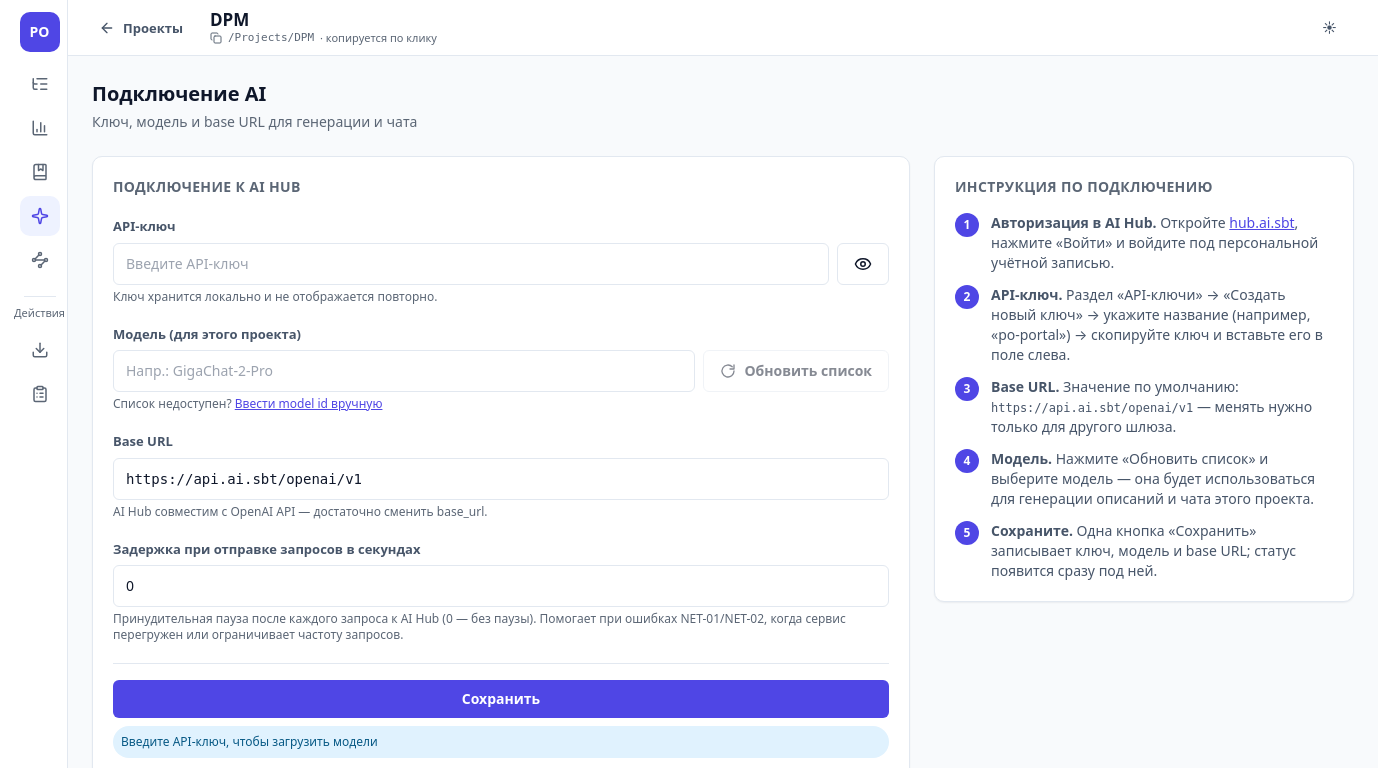
AiPage (T-803) › shows a readable error under the save button when loading models fails
Type "sk-bad" into the password field with test id "ai-key-input" at (471, 264), box x1=113 y1=242 x2=829 y2=284
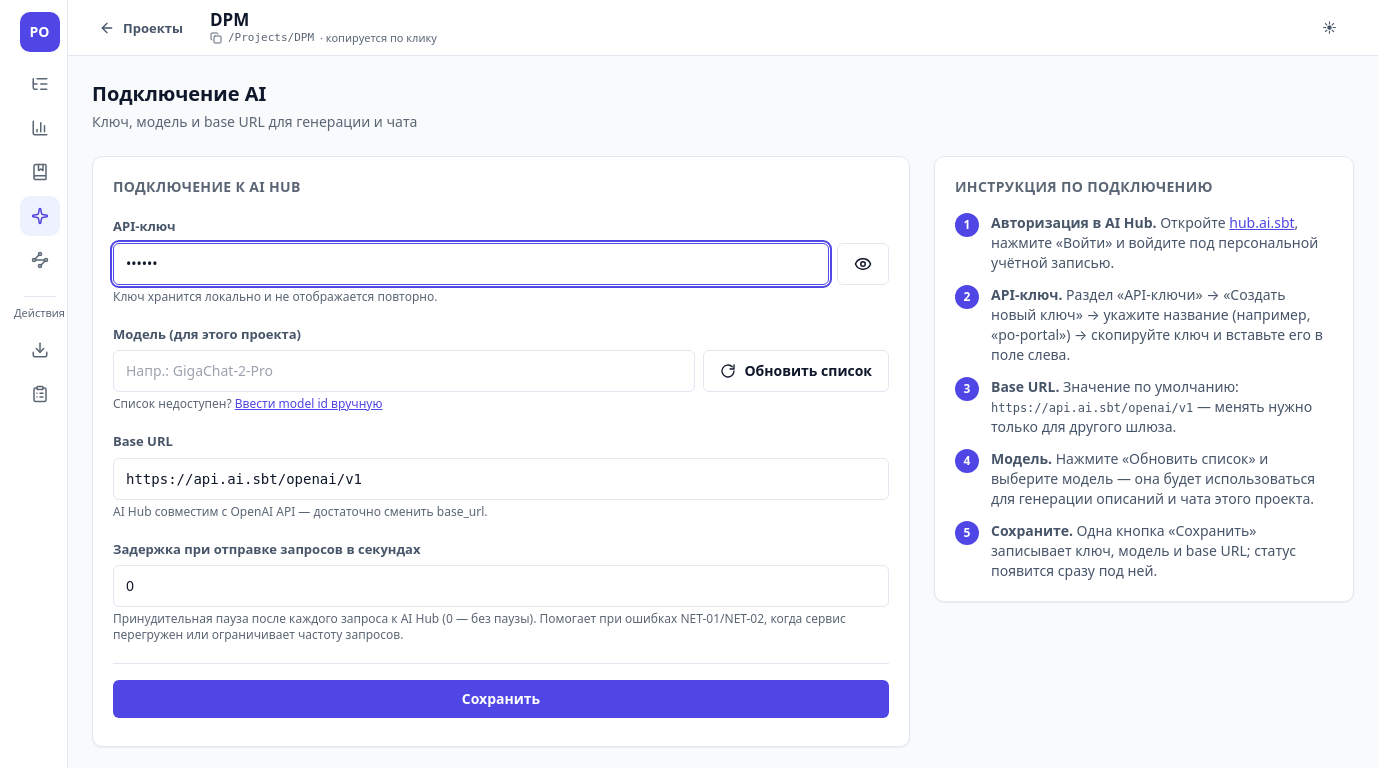
Click the button with test id "ai-models-refresh" at (796, 371), box x1=703 y1=350 x2=889 y2=392
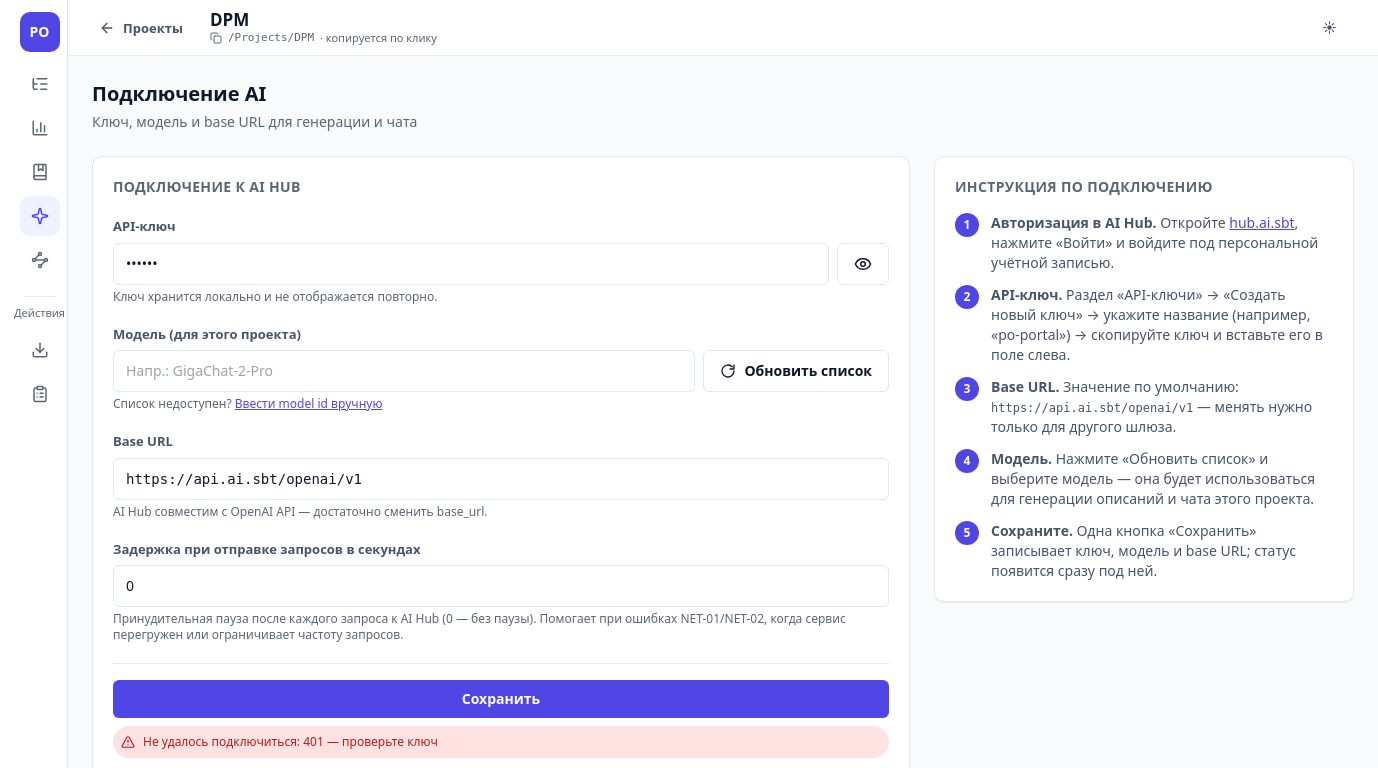
Check: the element with test id "ai-status" shows "Не удалось подключиться", box x1=143 y1=733 x2=438 y2=750
Check: the element with test id "ai-status" shows "401", box x1=143 y1=733 x2=438 y2=750
